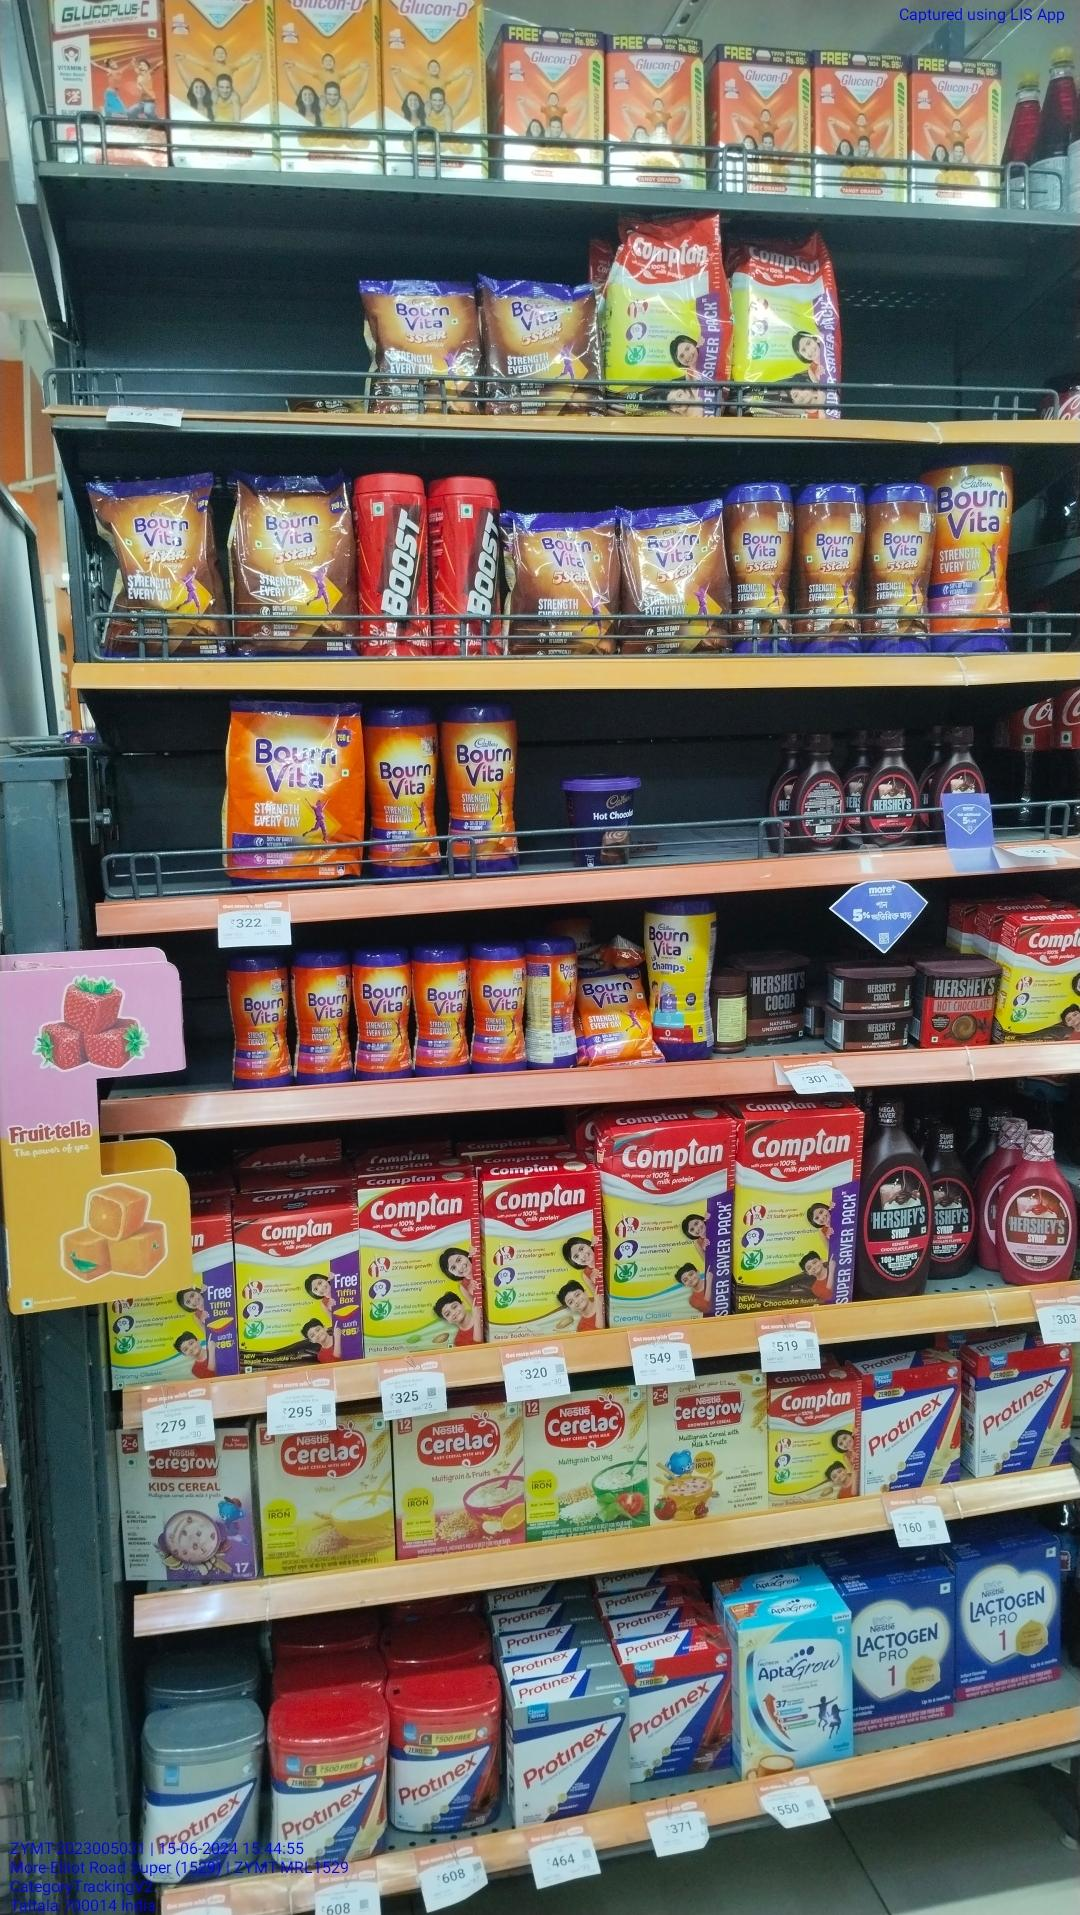BOURN_VITA_1_KG_JAR: (934, 450, 1014, 652), (863, 485, 931, 652), (796, 484, 860, 655)
BOURN_VITA_200_G_JAR: (229, 961, 291, 1093), (471, 942, 529, 1077), (295, 954, 353, 1082), (414, 946, 468, 1080), (355, 954, 410, 1077)
BOURN_VITA_500_G_JAR: (443, 708, 520, 875), (366, 710, 439, 880)
BOURN_VITA_750_G_POUCH: (225, 698, 359, 881)
BOURN_VITA_CHAMPS_500_G_JAR: (649, 908, 714, 1057)
BOURN_VITA_FIVE_STAR_MAGIC_500_G_JAR: (735, 484, 791, 658)
BOURN_VITA_FIVE_STAR_MAGIC_500_G_POUCH: (483, 278, 601, 413), (509, 509, 617, 654), (624, 509, 729, 650), (368, 281, 476, 412)
BOURN_VITA_FIVE_STAR_MAGIC_750_G_POUCH: (104, 484, 229, 660), (239, 476, 356, 655)
COMPLAN_CHOCOLATE_1_KG_PACK: (735, 1121, 855, 1311)
COMPLAN_CHOCOLATE_500_GMS_PACK: (237, 1218, 360, 1361)
COMPLAN_KESAR_BADAM_500_GMS_PACK: (485, 1184, 602, 1331), (770, 1389, 859, 1506)
COMPLAN_PISTA_BADAM_500_GMS_PACK: (367, 1188, 480, 1348)
COMPLAN_RC_POUCH_700_GMS_12: (606, 209, 725, 413), (731, 237, 841, 418)
PROTINEX_CHOCOLATE_400_G_JAR: (389, 1702, 497, 1832)
PROTINEX_ORIGINAL_400_G_JAR: (141, 1735, 259, 1873)
PROTINEX_VANILLA_400_G_JAR: (271, 1722, 384, 1862)
